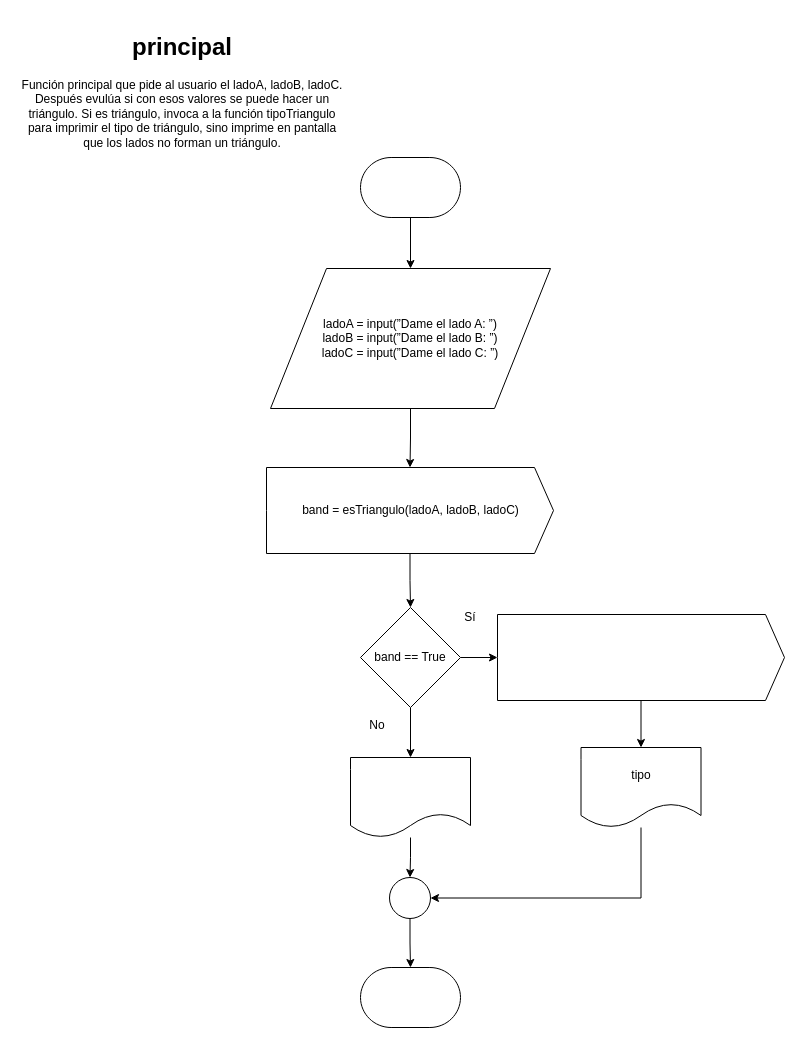
Some shapes in this 802 by 1045 pixel diagram are drawn without their labels. Each missing label, with the box of its shape:
tipo = tipoTriangulo(ladoA, ladoB, ladoC): (496, 614, 784, 700)
”Los lados no forman un triangulo”: (350, 756, 470, 838)
